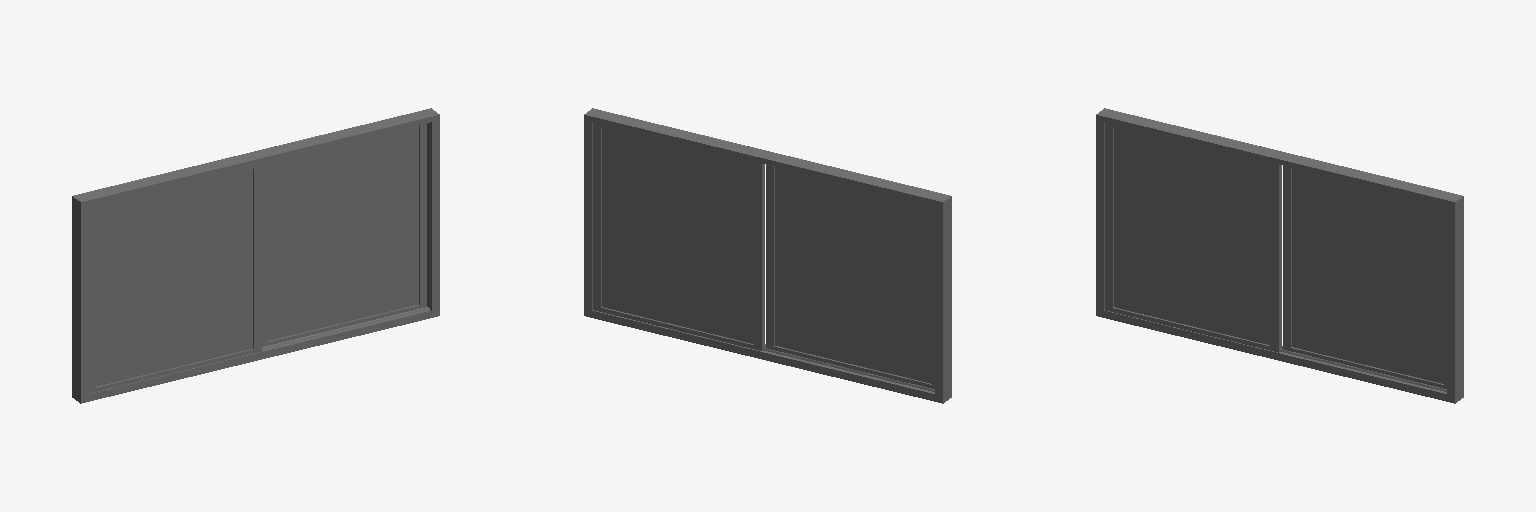
Rendered from SquareSlidingWindow.obj.
3 renders of one model, left to right at view 1: azimuth 30°, elevation 25°; view 2: azimuth 150°, elevation 25°; view 3: azimuth 330°, elevation 25°, orthographic.
Visible parts, largest first — view 1: SquareSlidingWindow; view 2: SquareSlidingWindow; view 3: SquareSlidingWindow.
Boxes of the visible parts, <box> form: SquareSlidingWindow: <box>72,108,439,403</box>; SquareSlidingWindow: <box>584,108,951,403</box>; SquareSlidingWindow: <box>1096,108,1463,403</box>.
Bounding box in the file's own units: 70.8 × 37.92 × 3.